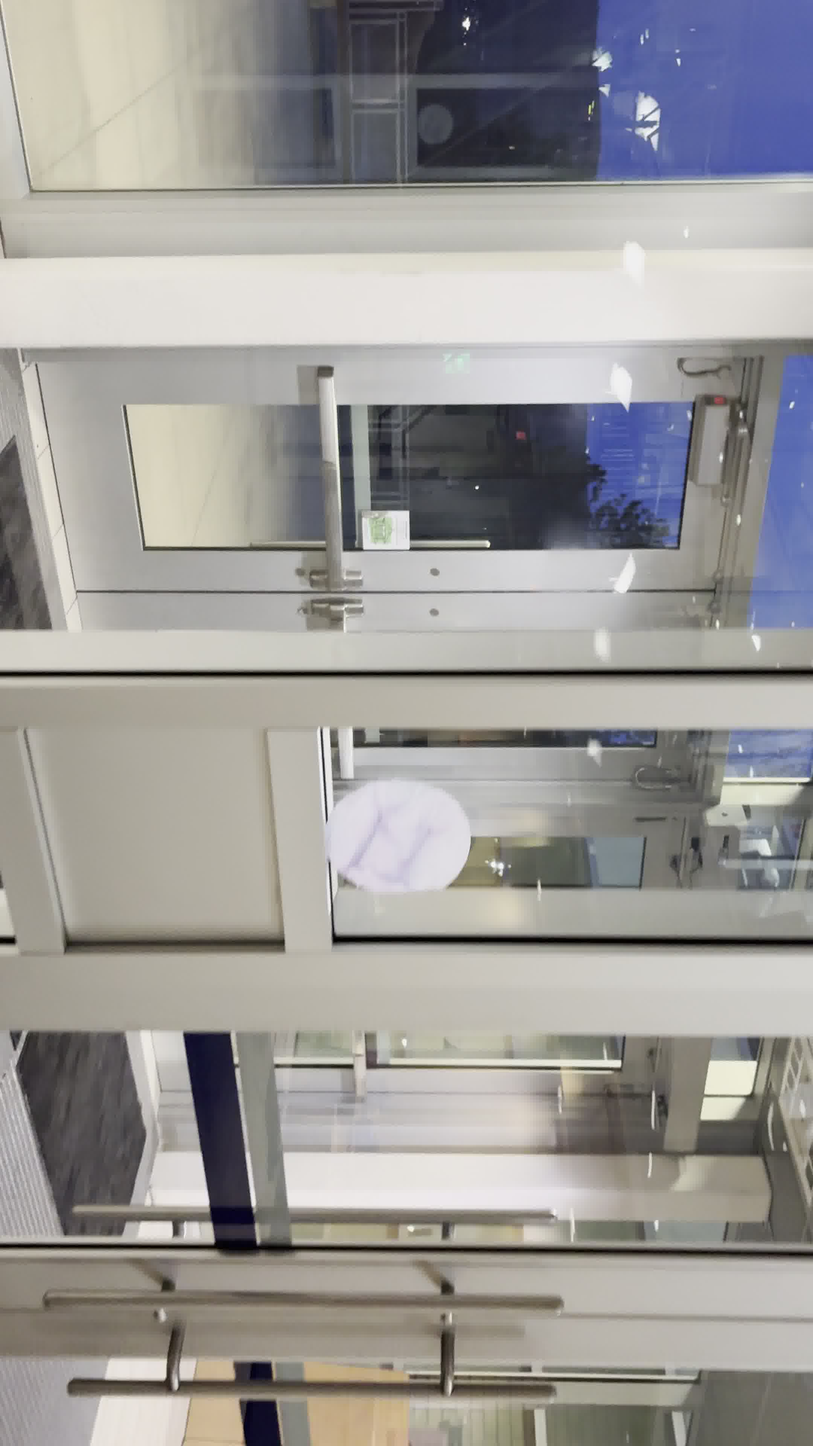Target: (322, 775, 472, 897)
